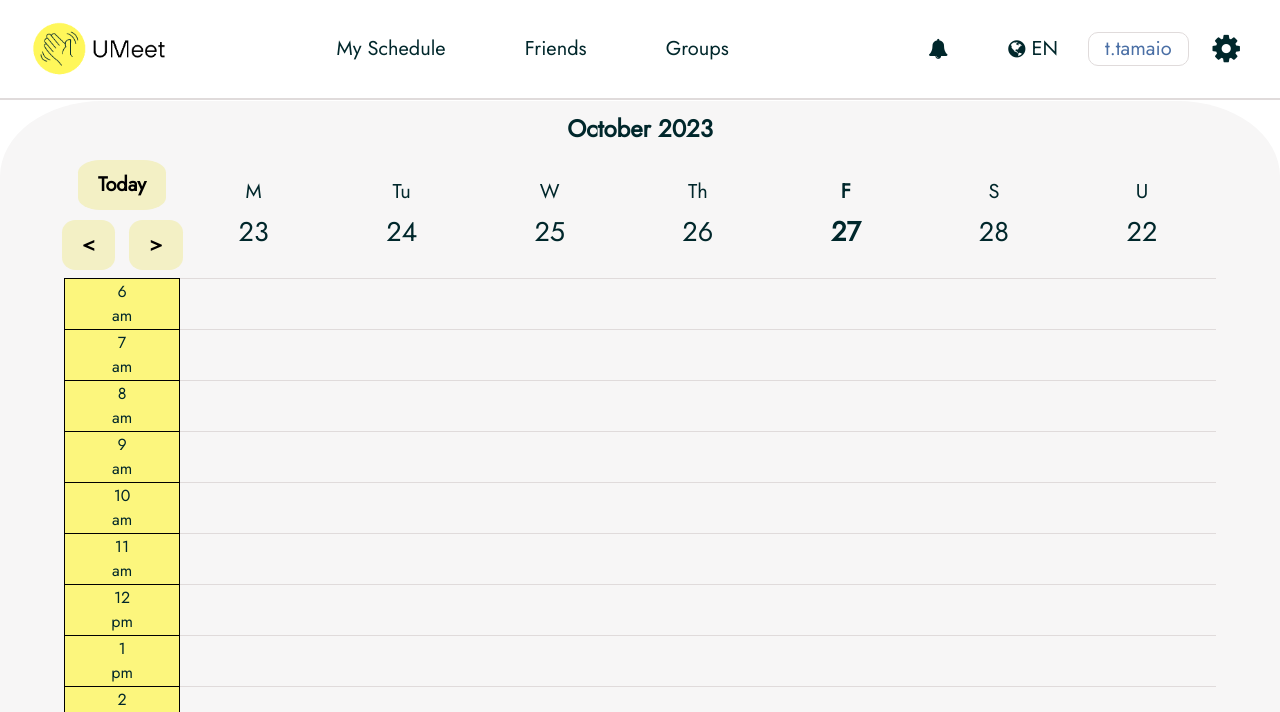
Test case: DropdownFriends Component › should show the DropdownFriends component when hovering over the Friends button
This screenshot has width=1280, height=712.
Hover over the button "Friends" at (556, 49), box [519,33,593,65]
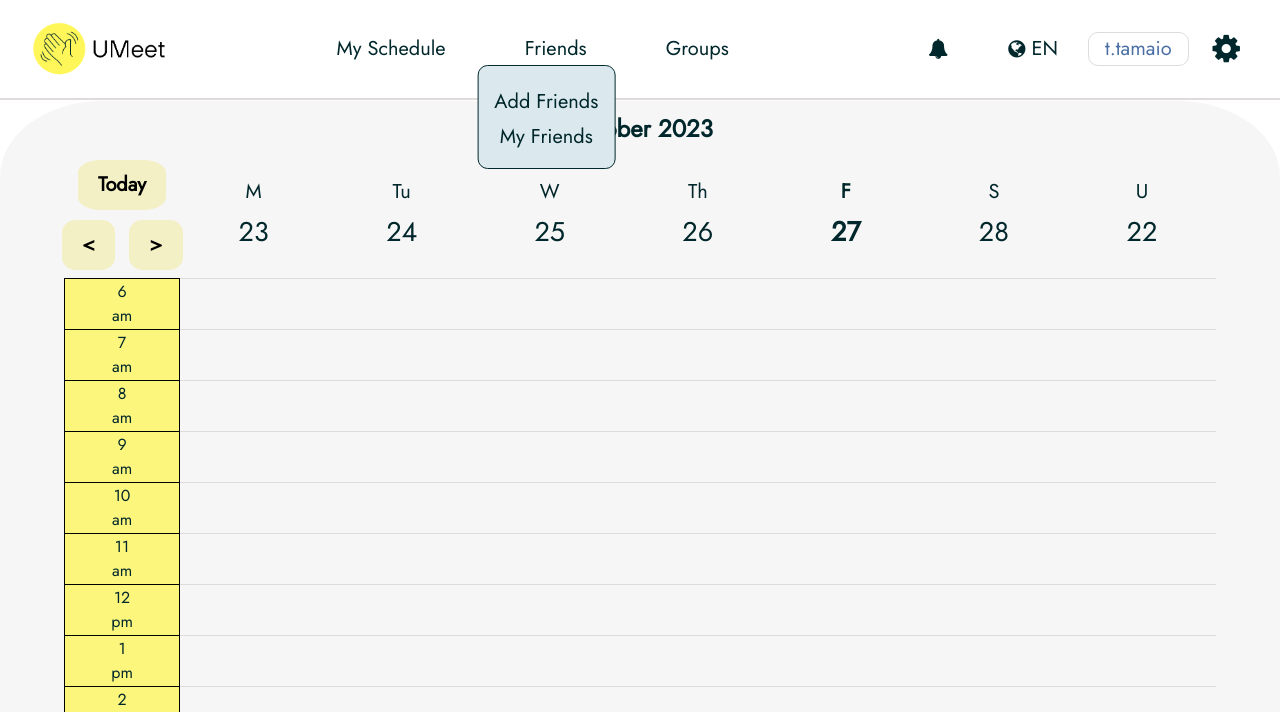
Check: the element with class "dropdown_friends" is shown, box [477,65,615,169]
